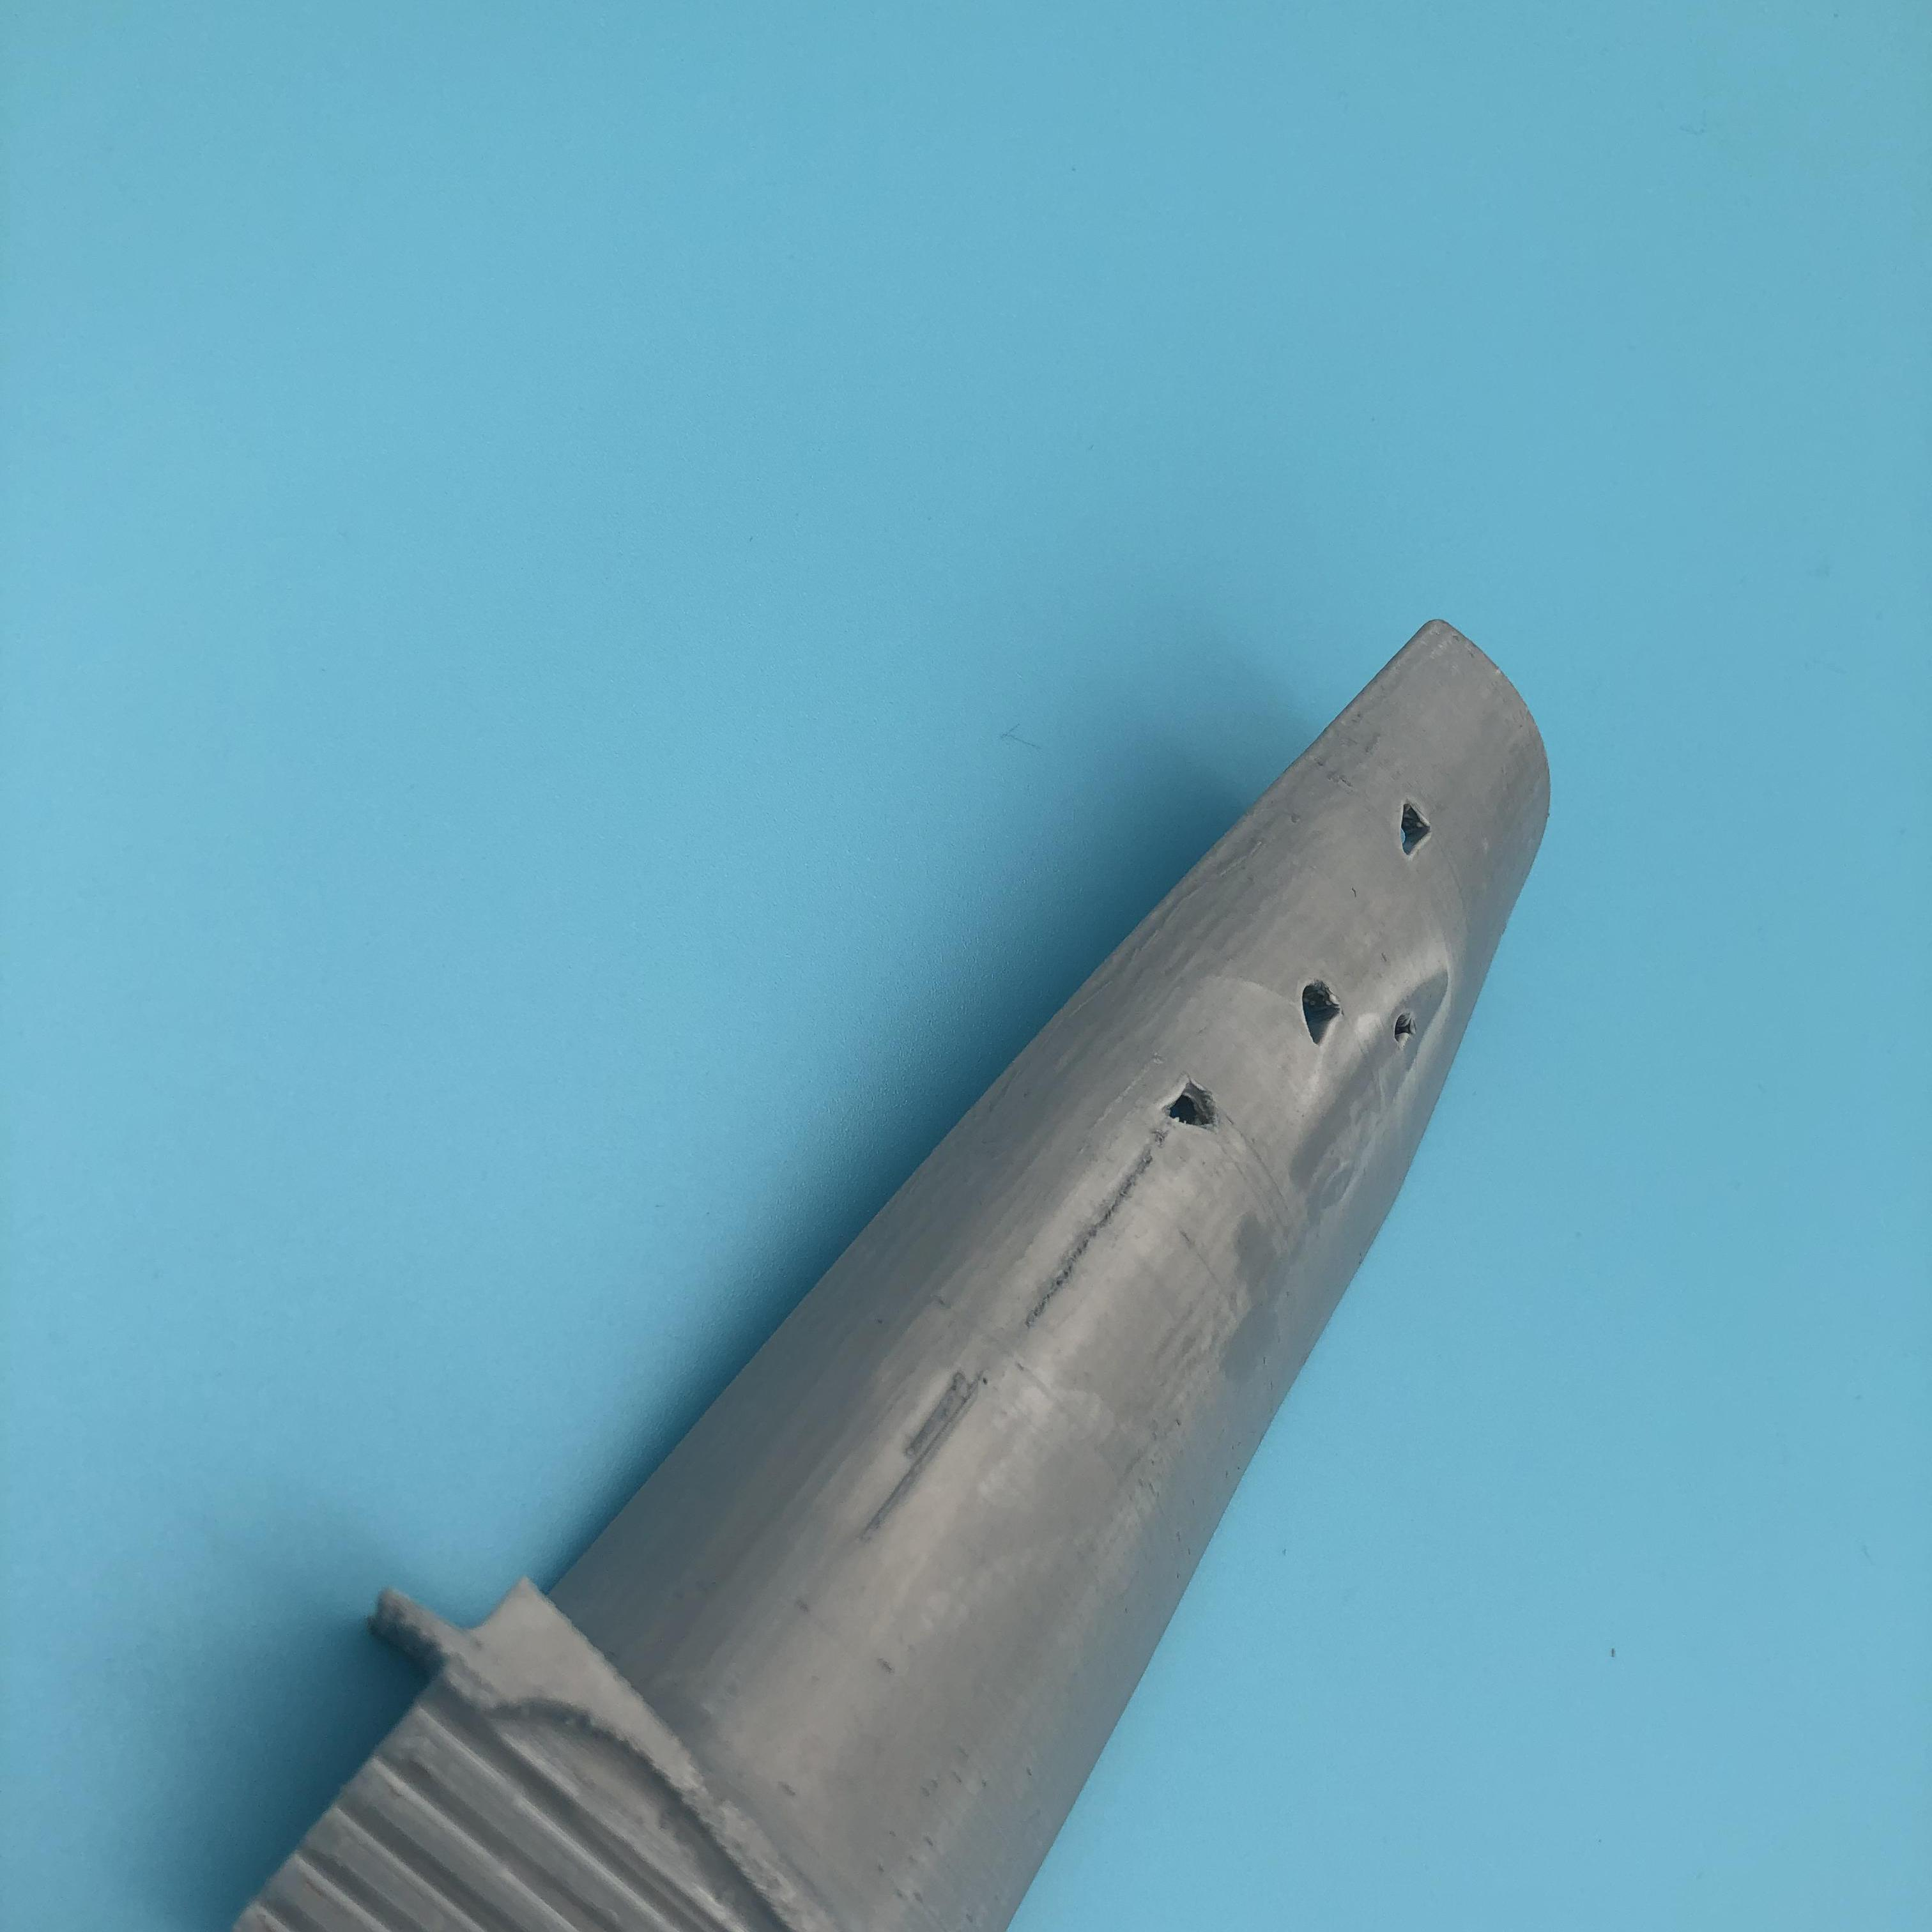breakdown: (1173, 982, 1442, 1143), (1378, 794, 1472, 872)
